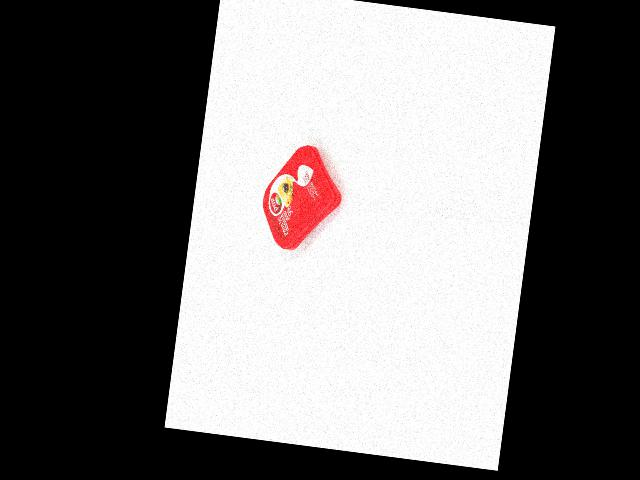cheese: (256, 139, 348, 256)
